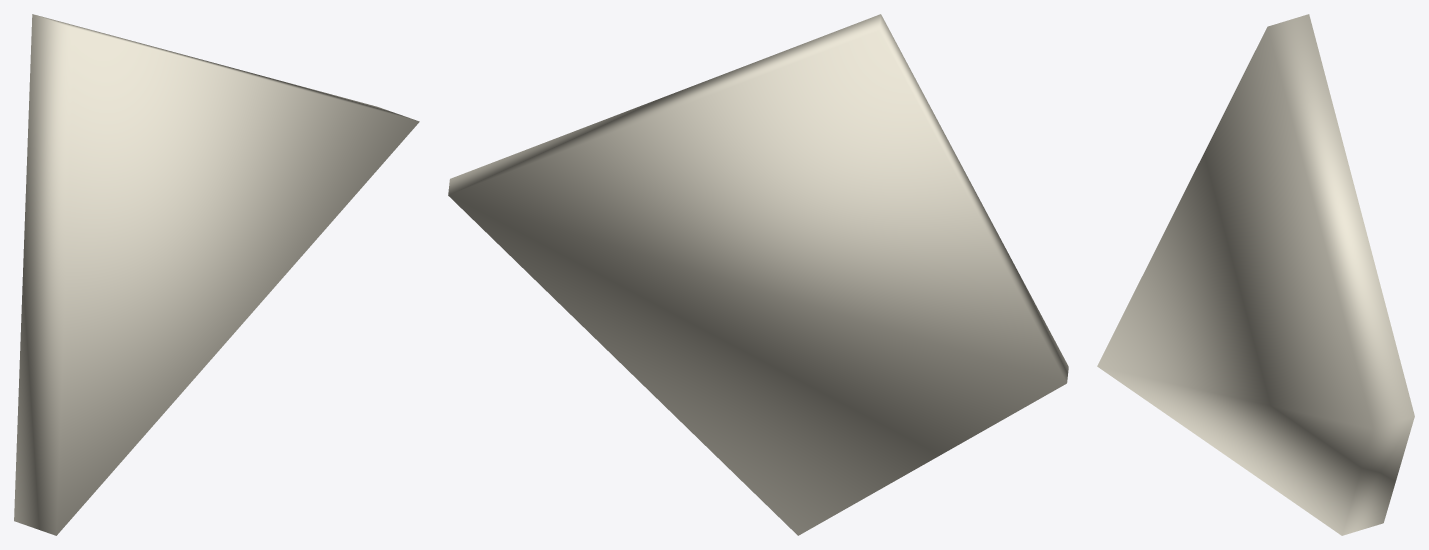
3 renders of one model, left to right at view 1: azimuth 30°, elevation 25°; view 2: azimuth 150°, elevation 25°; view 3: azimuth 270°, elevation 25°, orthographic. The views are drawn at different scales.
Visible parts, largest first — view 1: ZA_5684548b7147ee0e; view 2: ZA_5684548b7147ee0e; view 3: ZA_5684548b7147ee0e.
Part boxes in pixels (x1,y1,x2,y2): ZA_5684548b7147ee0e: (14,14,419,535); ZA_5684548b7147ee0e: (448,14,1068,535); ZA_5684548b7147ee0e: (1097,14,1414,535).
Size of the model in its own units: 0.00608 by 0.00572 by 0.00336.
